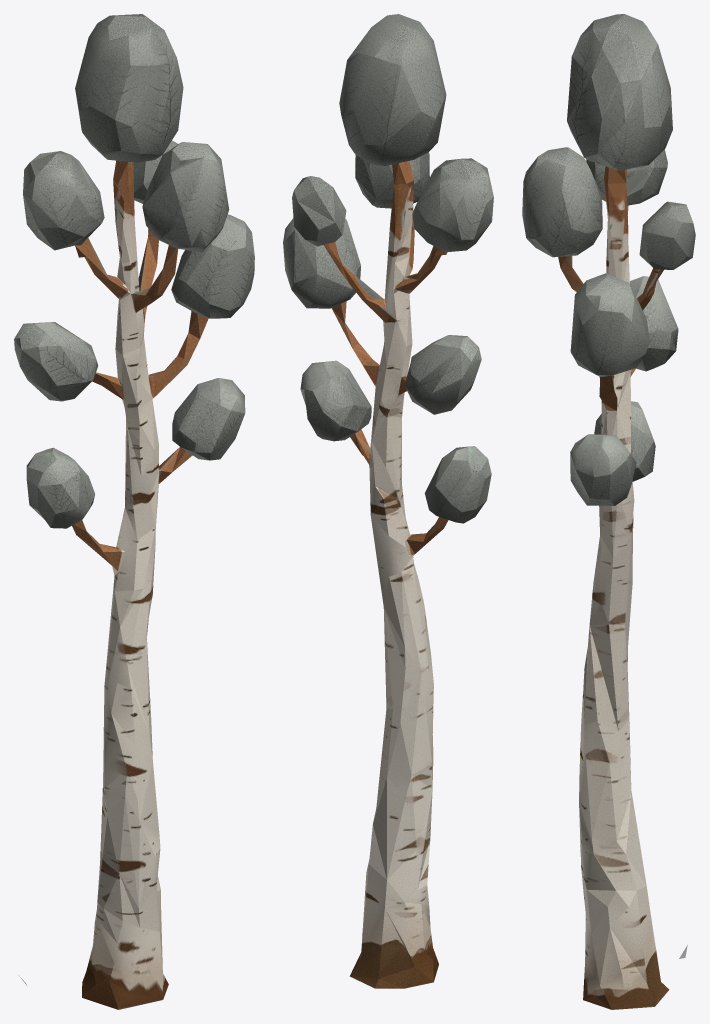
Rendered from birch.glb.
The picture shows the model from 3 angles, left to right: view 1: azimuth 30°, elevation 25°; view 2: azimuth 150°, elevation 25°; view 3: azimuth 270°, elevation 25°; orthographic projection. The views are drawn at different scales.
Visible parts, largest first — view 1: geometry_0; view 2: geometry_0; view 3: geometry_0.
Part boxes in pixels (box(x1,y1,x2,y2)): geometry_0: box(14, 14, 254, 1009); geometry_0: box(283, 14, 493, 988); geometry_0: box(522, 14, 695, 1009).
Size of the model in its own units: 1.54 by 6.71 by 1.08.
Materials: 1 (1 with a texture image).
